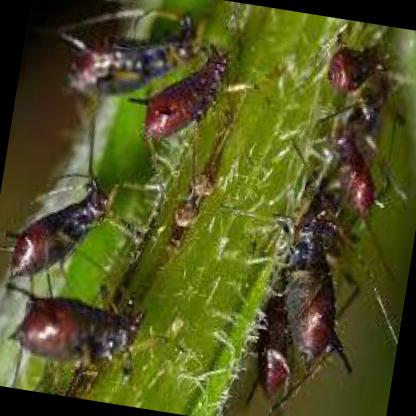uroleucon compositae: (141, 48, 230, 142)
